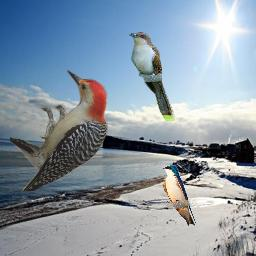Cuckoo: (129, 32, 175, 122)
Swallow: (162, 165, 196, 226)
Woodpecker: (10, 69, 112, 191)
